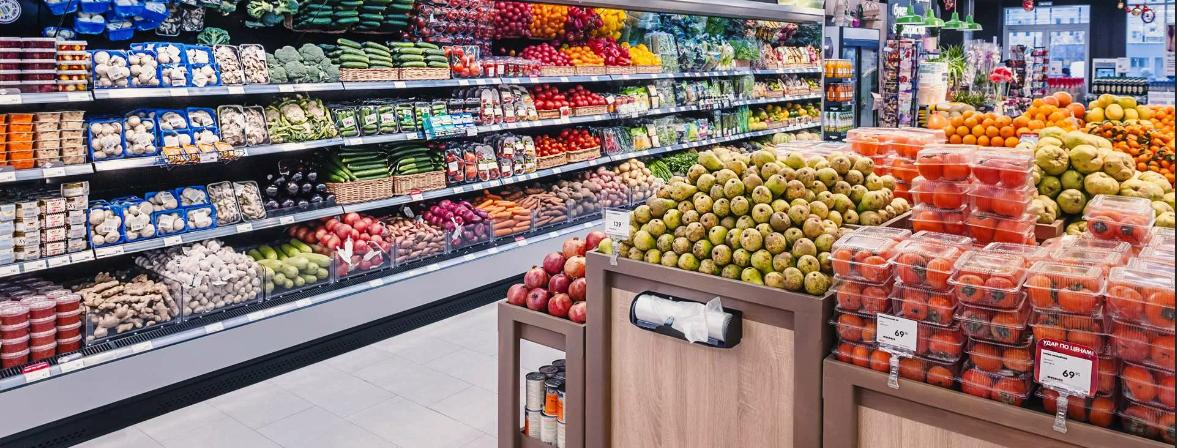carrot: (474, 195, 530, 235), (520, 188, 566, 228)
cucumber: (326, 148, 391, 182), (331, 40, 394, 71), (340, 106, 398, 136), (388, 42, 448, 70), (386, 144, 442, 173), (397, 102, 448, 130)
eggplant: (262, 164, 338, 212)
ginger: (71, 272, 179, 342), (162, 245, 262, 313)
mandarin: (936, 99, 1073, 146)
onion: (291, 213, 390, 276), (418, 202, 490, 249)
pear: (599, 148, 911, 289)
pomegranate: (506, 230, 593, 322)
potato: (556, 168, 630, 216), (612, 160, 663, 197)
tomato: (528, 84, 568, 112), (524, 44, 570, 68), (450, 44, 479, 76), (567, 86, 606, 108), (562, 130, 602, 150), (531, 134, 566, 154)
